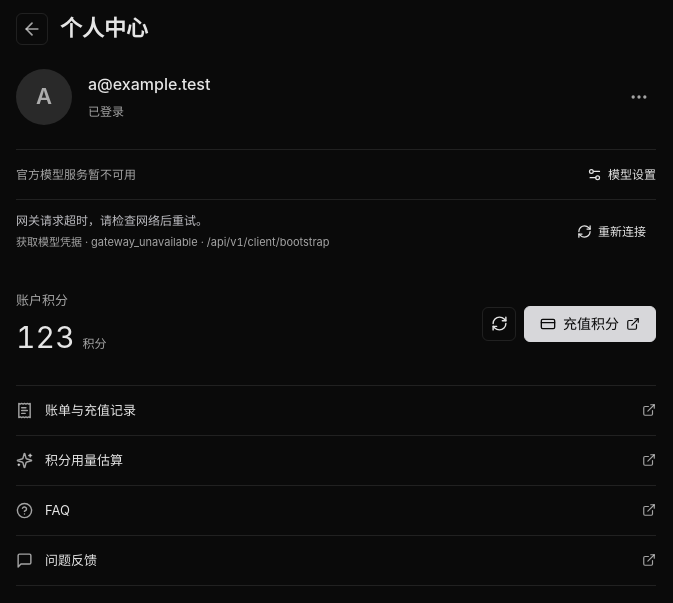
Test: reconnects model services from the personal center without signing in again or affecting credits
This screenshot has width=673, height=603.
Expected: the text "123" is shown, x1=16 y1=319 x2=74 y2=355
Expected: the message "网关请求超时，请检查网络后重试。 获取模型凭据 · gateway_unavailable · /api/v1/client/bootstrap" is shown, x1=16 y1=213 x2=330 y2=249
What coordinates should you click on to do the following:
click the button "重新连接"
I would click on:
 (612, 232)
Its box is x1=567 y1=216 x2=656 y2=248.
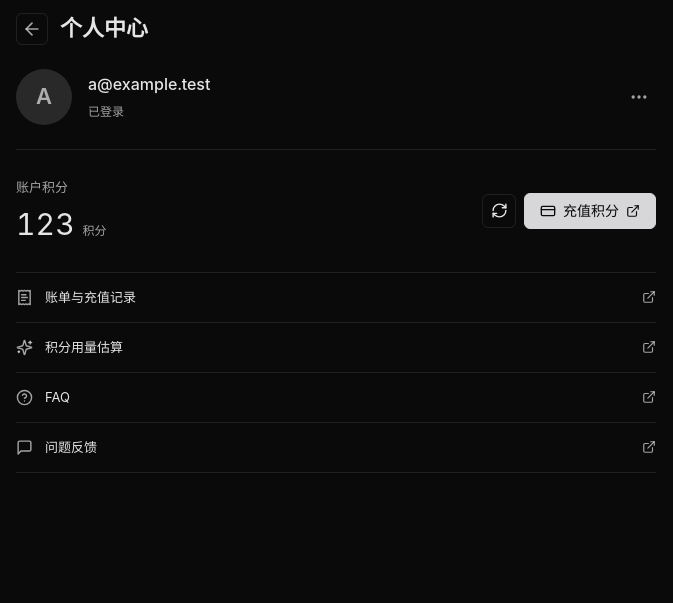
Expected: the text "123" is shown, x1=16 y1=206 x2=74 y2=242
Expected: the text "官方模型服务暂不可用" is gone
